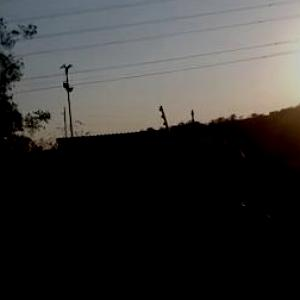follow: (168, 136, 293, 299)
